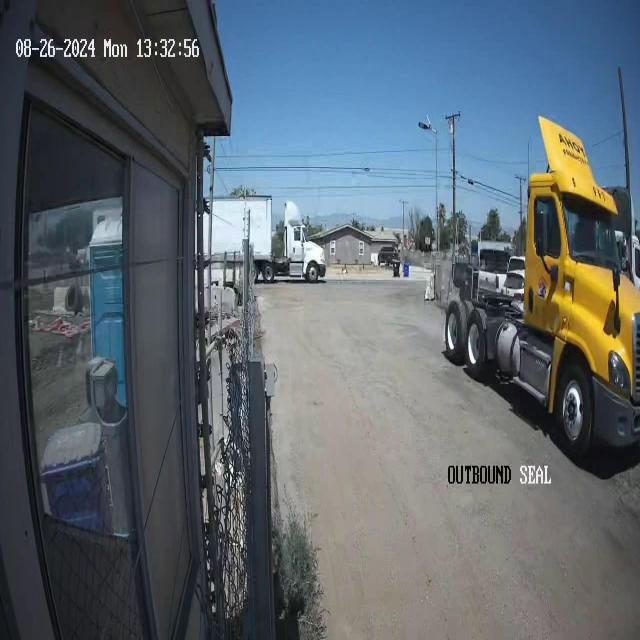BOBTAIL: (443, 114, 639, 461)
